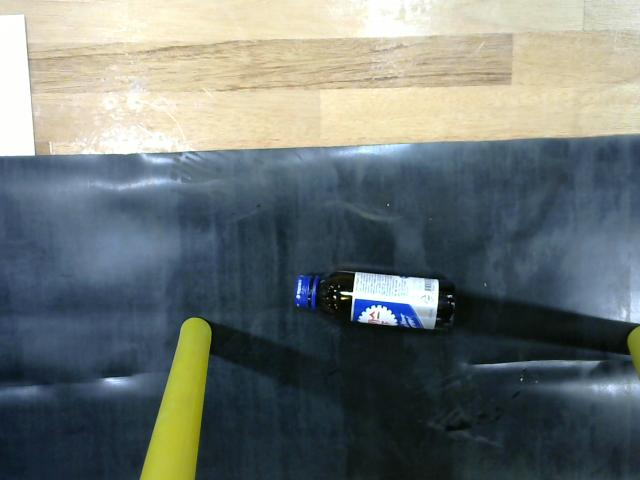glass: (289, 266, 469, 335)
